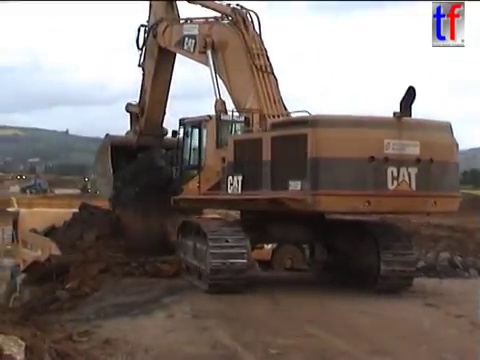excavator: (86, 1, 467, 298)
truck: (1, 195, 183, 327), (250, 210, 395, 278), (151, 212, 247, 288)
